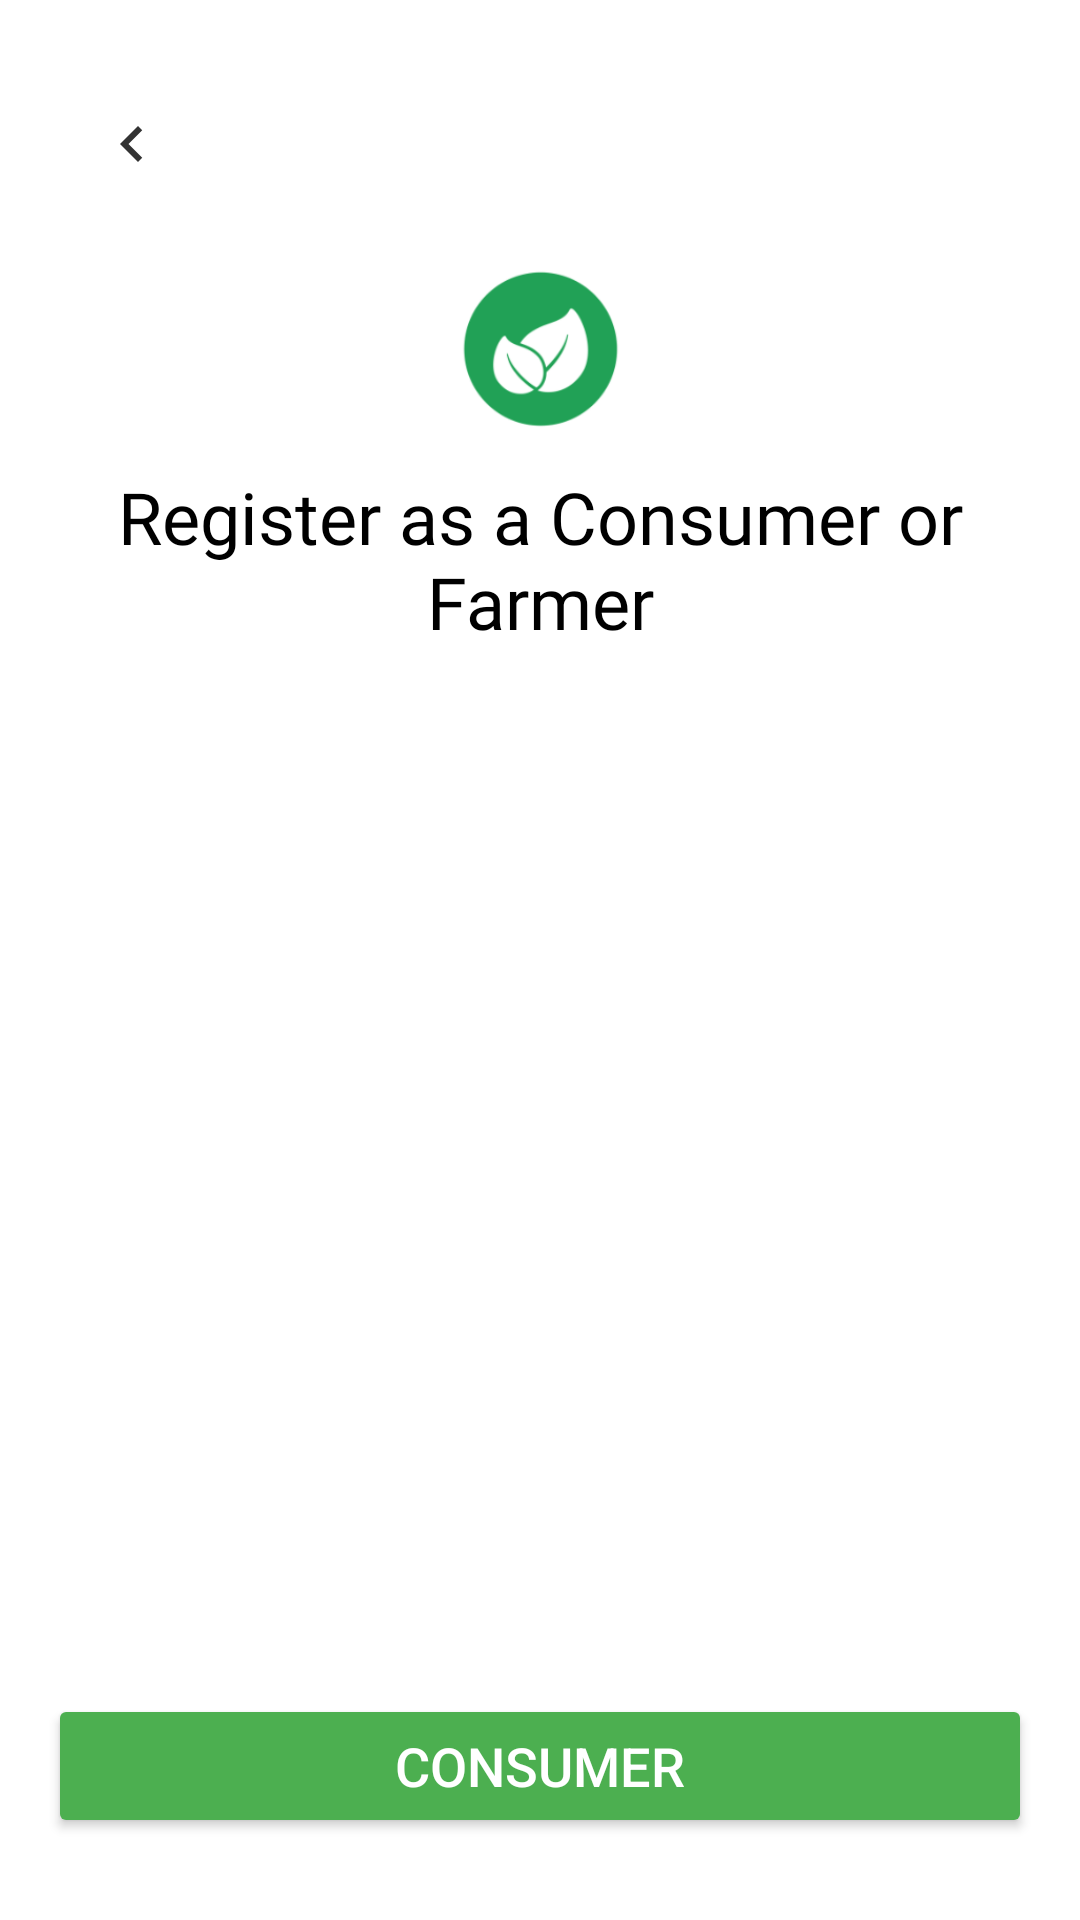

Screen size 1080 × 1920. Icon name, then its box in pixels as (x1, y1, x2, y2):
Back: (120, 126, 142, 162)
